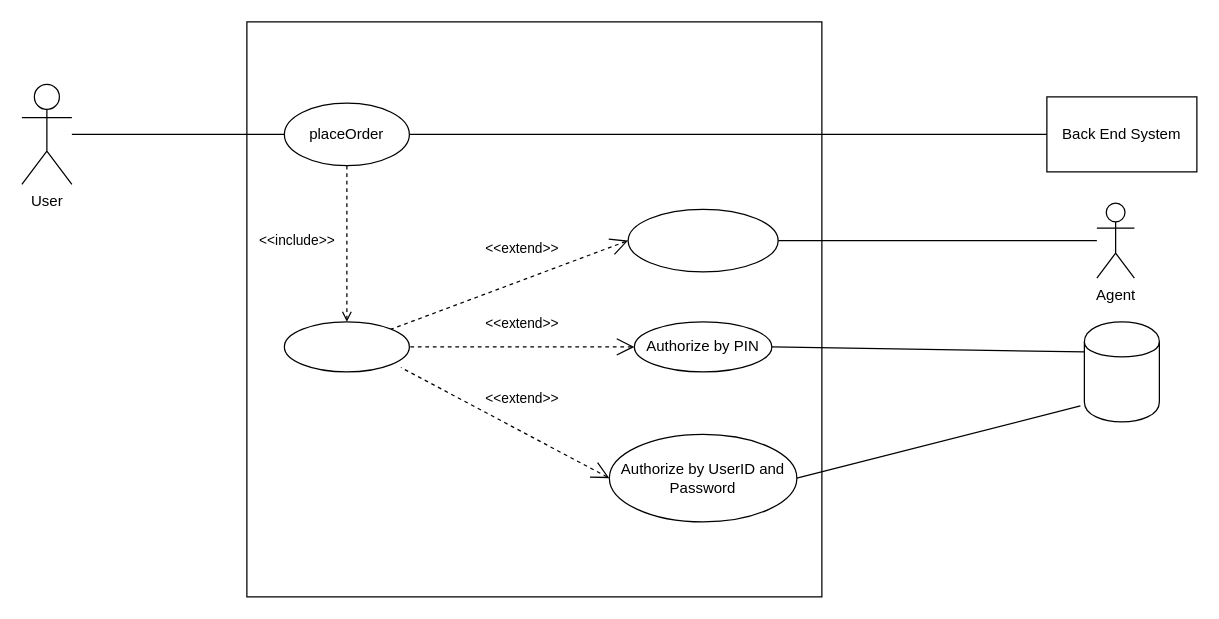
This 1219x619 diagram has some shape labels left out. Here are the shapes that lost their labels. From the top down, the box of each, then its label:
(627, 208, 778, 272): Calling an Agent
(283, 321, 409, 372): Authentication
(1083, 321, 1159, 422): User Credential DB
